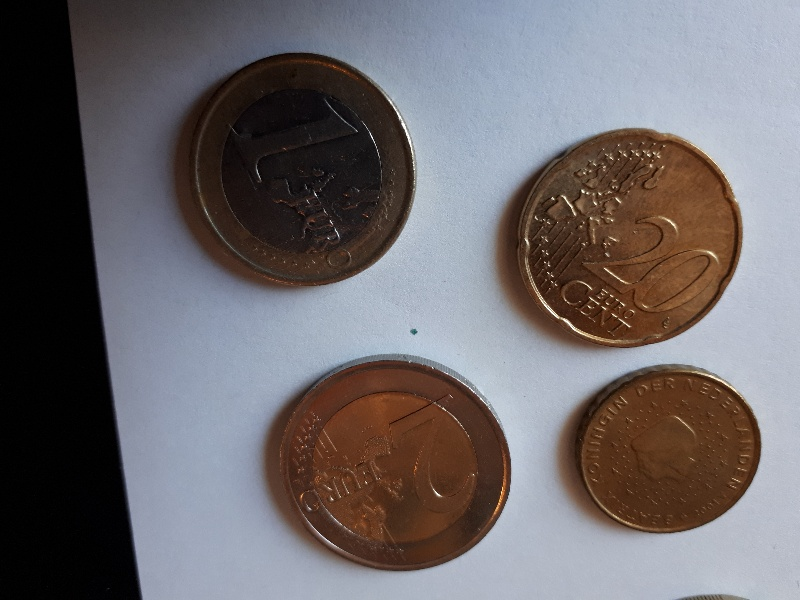1 euro: (174, 50, 419, 294)
10 cent: (569, 360, 762, 537)
2 euro: (276, 350, 518, 576)
20 cent: (511, 118, 748, 353)
